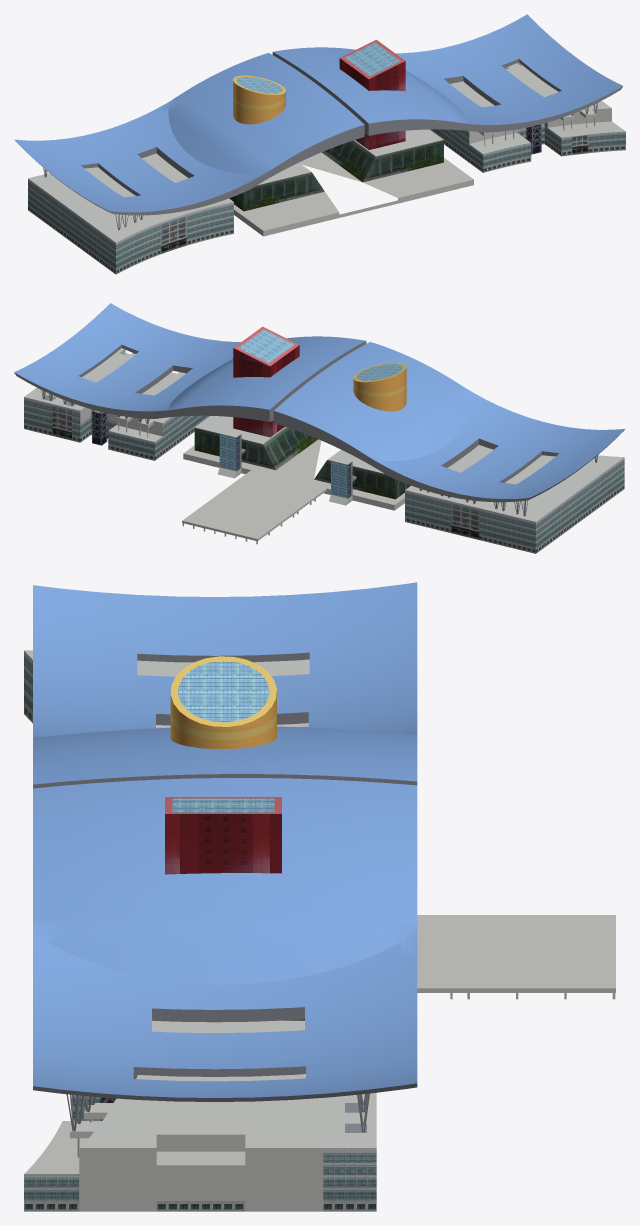
Rendered from civic_center_mot_638756e4.glb.
3 renders of one model, top to bottom at view 1: azimuth 30°, elevation 25°; view 2: azimuth 150°, elevation 25°; view 3: azimuth 270°, elevation 25°, orthographic. The views are drawn at different scales.
Parts seen in each view (by area): view 1: civic_center_mot_638756e4; view 2: civic_center_mot_638756e4; view 3: civic_center_mot_638756e4.
Part boxes in pixels (<box>): civic_center_mot_638756e4: <box>14,14,625,274</box>; civic_center_mot_638756e4: <box>14,303,625,553</box>; civic_center_mot_638756e4: <box>24,582,615,1211</box>.
Bounding box in the file's own units: 490 × 102 × 244.
1 material, 1 textured.
